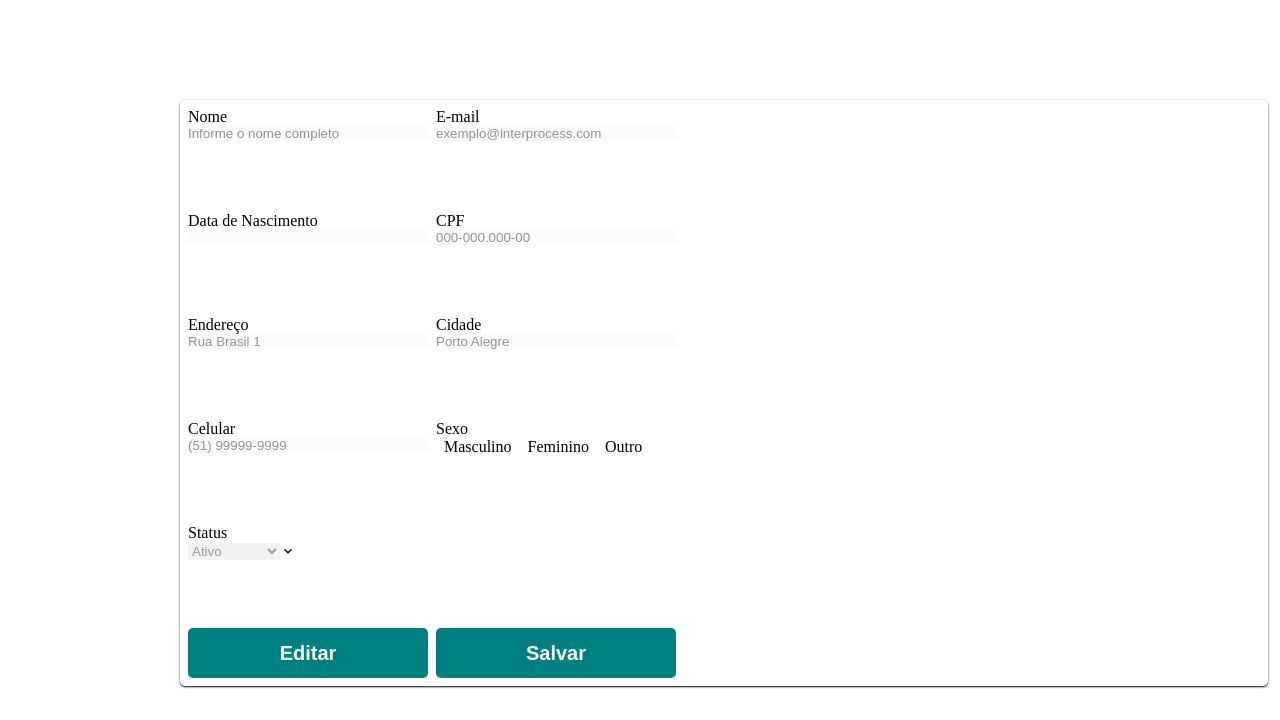
Verifica página DetailsPage › se ao clicar no botão de editar, os campos de informação são habilitados para edição
Click the button with test id "edit-btn" at (308, 653), box [188,628,428,678]
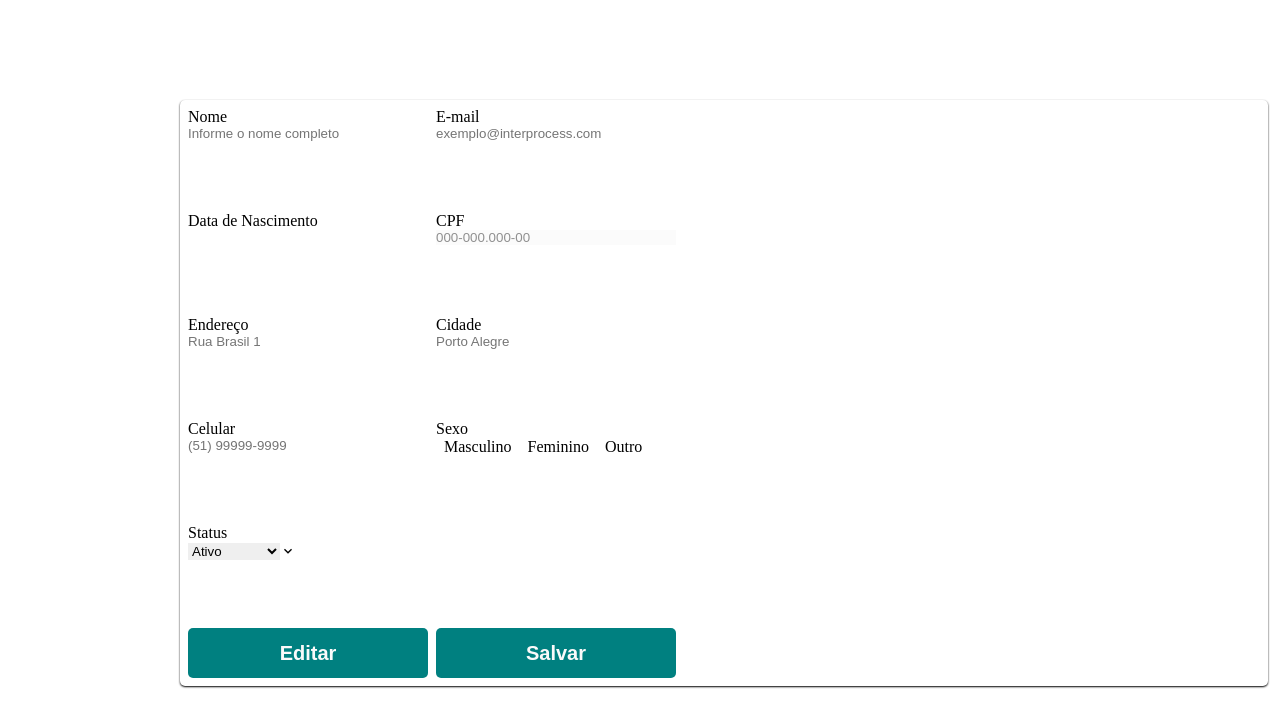
expect the field with test id "name-input" is enabled: met, box [188,126,428,141]
expect the number field with test id "phone-input" is enabled: met, box [188,438,428,453]
expect the field with test id "email-input" is enabled: met, box [436,126,676,141]
